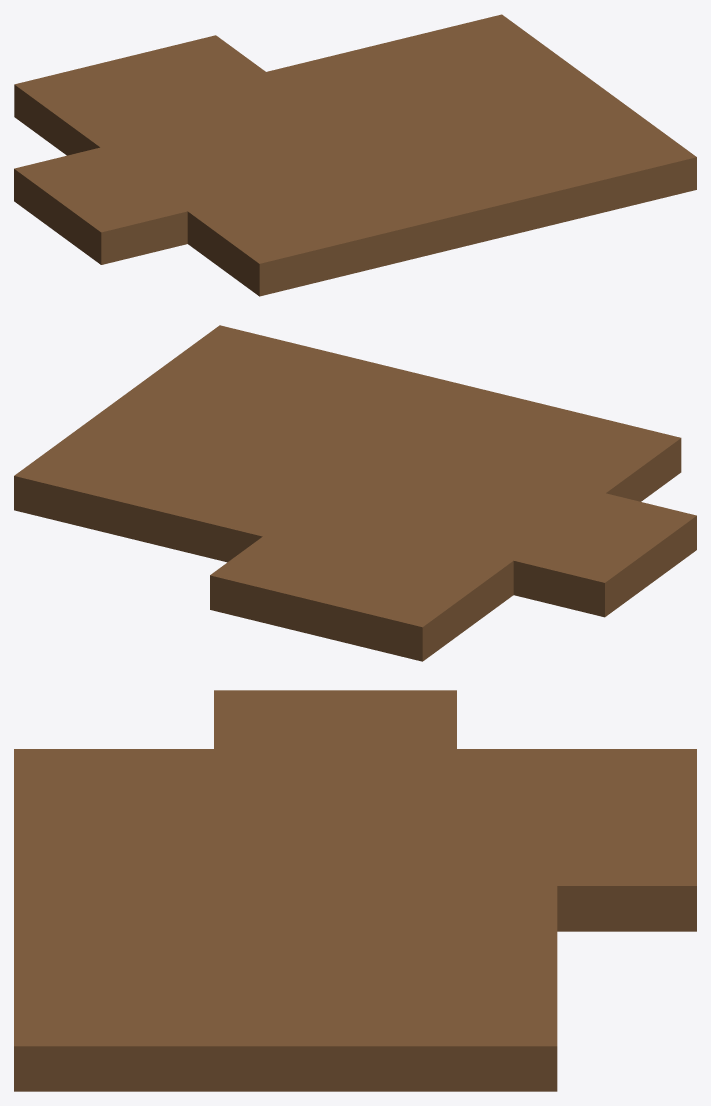
The model's file is foundation.glb.
3 renders of one model, top to bottom at view 1: azimuth 30°, elevation 25°; view 2: azimuth 150°, elevation 25°; view 3: azimuth 270°, elevation 25°, orthographic. The views are drawn at different scales.
Visible parts, largest first — view 1: foundation; view 2: foundation; view 3: foundation.
Boxes of the visible parts, x1,y1,x2,y2 form: foundation: (14,14,696,296); foundation: (14,325,696,661); foundation: (14,690,696,1091).
Bounding box in the file's own units: 41.98 × 2.5 × 34.03.
